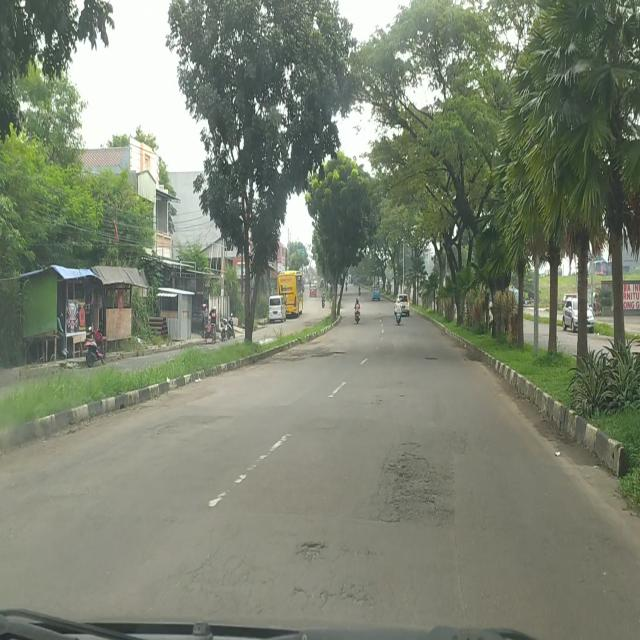Drain Hole: (384, 441, 454, 527)
